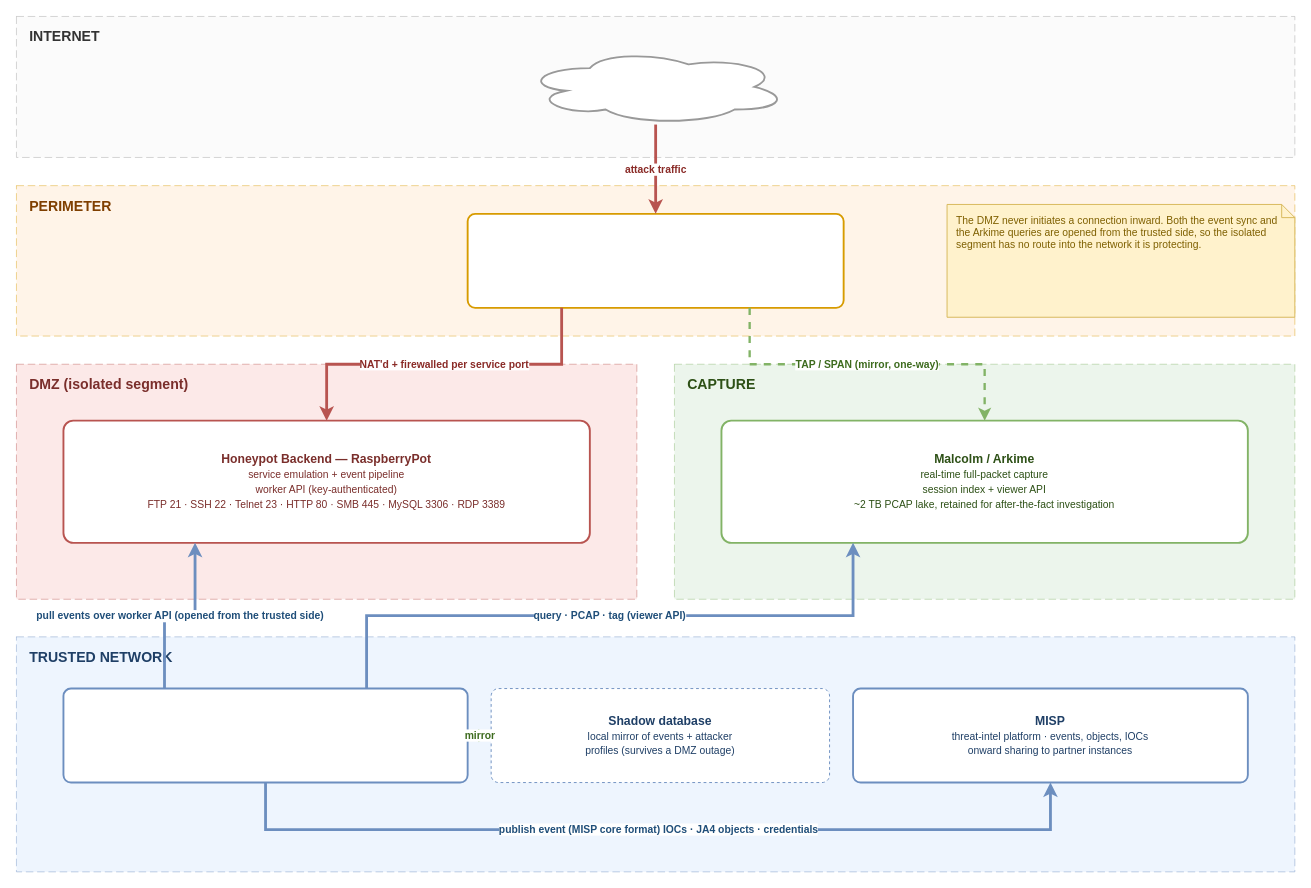
Image size: 1311x888. Some labels were removed from this diagram. The centre of each missing label's shape, as x and y in pixels:
"Attackers / Internet unsolicited inbound traffic" belongs at point 655,86.
"Honeypot Frontend — Web UI analysis console · Arkime pivot evidence export" belongs at point 265,735.
"Perimeter Firewall DNAT service ports to the honeypot deny DMZ → trusted" belongs at point 655,260.
